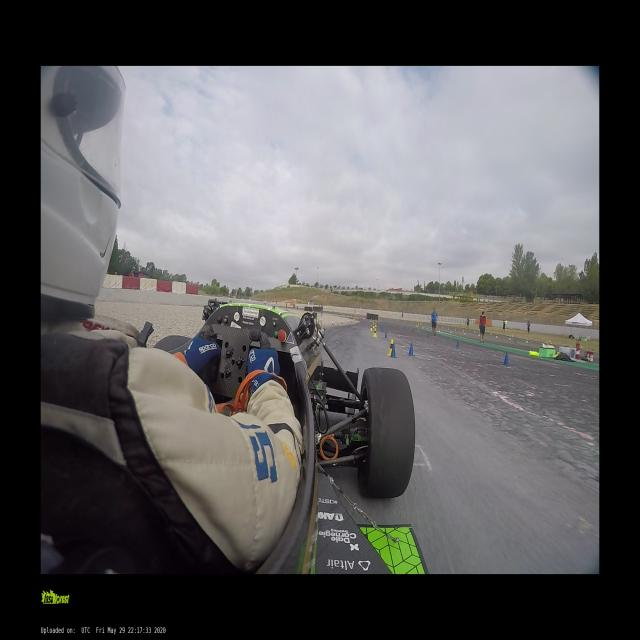blue_cone: (502, 352, 509, 366), (391, 344, 397, 358), (408, 343, 414, 356), (455, 340, 459, 348), (384, 331, 387, 338)
orange_cone: (331, 320, 334, 326), (341, 320, 343, 324)
yellow_cone: (390, 340, 394, 354), (373, 328, 377, 338), (370, 325, 372, 331), (372, 324, 375, 328)
